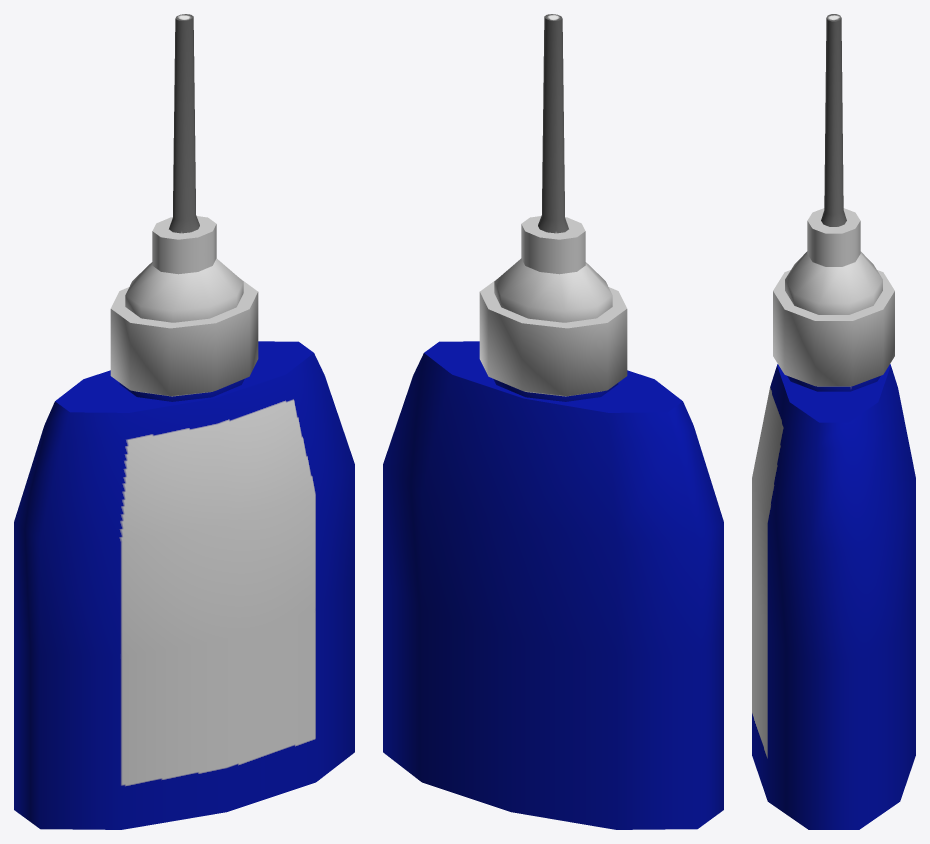
Rendered from CorrectionFluid.fbx.
3 views of the same model, side by side, from view 1: azimuth 30°, elevation 25°; view 2: azimuth 150°, elevation 25°; view 3: azimuth 270°, elevation 25° (orthographic). The views are drawn at different scales.
Parts seen in each view (by area): view 1: 柱体; view 2: 柱体; view 3: 柱体.
Boxes of the visible parts, x1,y1,x2,y2 form: 柱体: [14, 14, 354, 829]; 柱体: [383, 14, 723, 829]; 柱体: [752, 14, 915, 829].
Size of the model in its own units: 12.01 by 27.86 by 5.6.
Materials: 1 (1 with a texture image).
